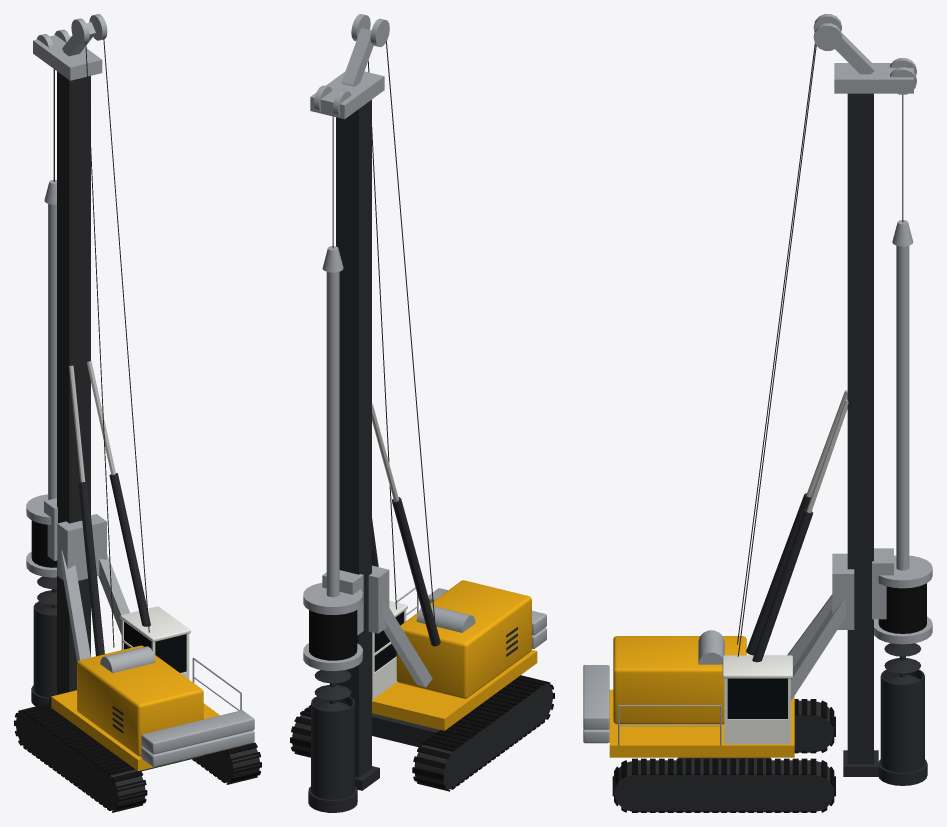
File: plant.piling.rig.glb
3 views of the same model, side by side, from view 1: azimuth 30°, elevation 25°; view 2: azimuth 150°, elevation 25°; view 3: azimuth 270°, elevation 25° (orthographic). The views are drawn at different scales.
Parts seen in each view (by area): view 1: mast__steel_dark, upper__plant_yellow, mast__steel_galvanised, tracks__steel_dark, upper__steel_galvanised, tracks__plastic_black, kelly__steel_galvanised, casing__steel_dark, upper__paint_white, rotary__steel_galvanised, upper__glass_dark, mast__steel_stainless (+2 smaller); view 2: mast__steel_dark, upper__plant_yellow, mast__steel_galvanised, tracks__steel_dark, kelly__steel_galvanised, casing__steel_dark, tracks__plastic_black, rotary__steel_galvanised, rotary__plastic_black, upper__steel_galvanised, kelly__steel_dark, upper__paint_white (+2 smaller); view 3: mast__steel_dark, upper__plant_yellow, tracks__steel_dark, mast__steel_galvanised, kelly__steel_galvanised, casing__steel_dark, tracks__plastic_black, upper__paint_white, upper__steel_galvanised, rotary__steel_galvanised, upper__glass_dark, rotary__plastic_black (+2 smaller).
Boxes of the visible parts, left/top/right/bottom form: mast__steel_dark: left=49, top=38, right=150, bottom=704; upper__plant_yellow: left=51, top=645, right=240, bottom=770; mast__steel_galvanised: left=33, top=14, right=129, bottom=661; tracks__steel_dark: left=15, top=708, right=260, bottom=810; upper__steel_galvanised: left=100, top=646, right=254, bottom=767; tracks__plastic_black: left=14, top=703, right=261, bottom=812; kelly__steel_galvanised: left=44, top=179, right=56, bottom=499; casing__steel_dark: left=31, top=601, right=56, bottom=706; upper__paint_white: left=120, top=606, right=190, bottom=679; rotary__steel_galvanised: left=26, top=494, right=57, bottom=577; upper__glass_dark: left=124, top=621, right=186, bottom=672; mast__steel_stainless: left=69, top=361, right=115, bottom=482; mast__steel_dark: left=336, top=41, right=440, bottom=790; upper__plant_yellow: left=372, top=580, right=537, bottom=730; mast__steel_galvanised: left=310, top=14, right=432, bottom=687; tracks__steel_dark: left=292, top=679, right=553, bottom=789; kelly__steel_galvanised: left=322, top=246, right=343, bottom=597; casing__steel_dark: left=308, top=696, right=357, bottom=812; tracks__plastic_black: left=290, top=675, right=554, bottom=791; rotary__steel_galvanised: left=303, top=570, right=363, bottom=670; rotary__plastic_black: left=309, top=610, right=357, bottom=660; upper__steel_galvanised: left=396, top=587, right=546, bottom=648; kelly__steel_dark: left=314, top=116, right=351, bottom=710; upper__paint_white: left=372, top=600, right=407, bottom=699; mast__steel_dark: left=737, top=43, right=878, bottom=776; upper__plant_yellow: left=609, top=636, right=794, bottom=757; tracks__steel_dark: left=614, top=700, right=834, bottom=812; mast__steel_galvanised: left=787, top=14, right=916, bottom=700; kelly__steel_galvanised: left=892, top=220, right=913, bottom=570; casing__steel_dark: left=878, top=669, right=927, bottom=785; tracks__plastic_black: left=612, top=699, right=835, bottom=812; upper__paint_white: left=722, top=655, right=792, bottom=744; upper__steel_galvanised: left=583, top=630, right=724, bottom=745; rotary__steel_galvanised: left=872, top=548, right=932, bottom=644; upper__glass_dark: left=727, top=678, right=787, bottom=718; rotary__plastic_black: left=878, top=583, right=926, bottom=633.
Bounding box in the file's own units: 4 × 18.92 × 7.93.
